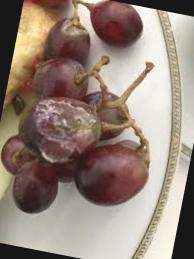Grape Rotten: (0, 0, 179, 234), (64, 0, 147, 50)
